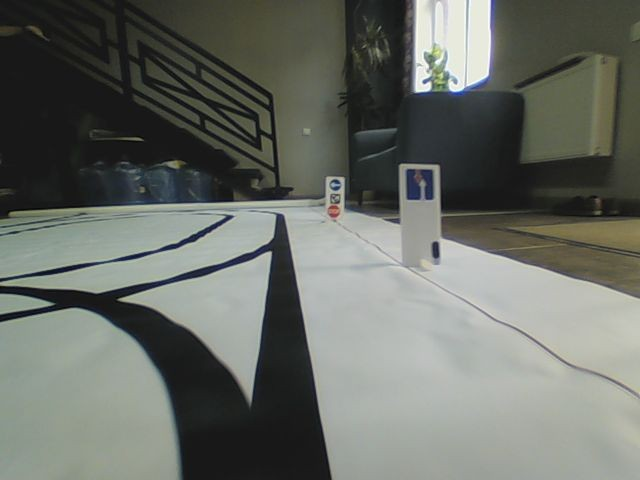priority_movement: (407, 169, 433, 200)
